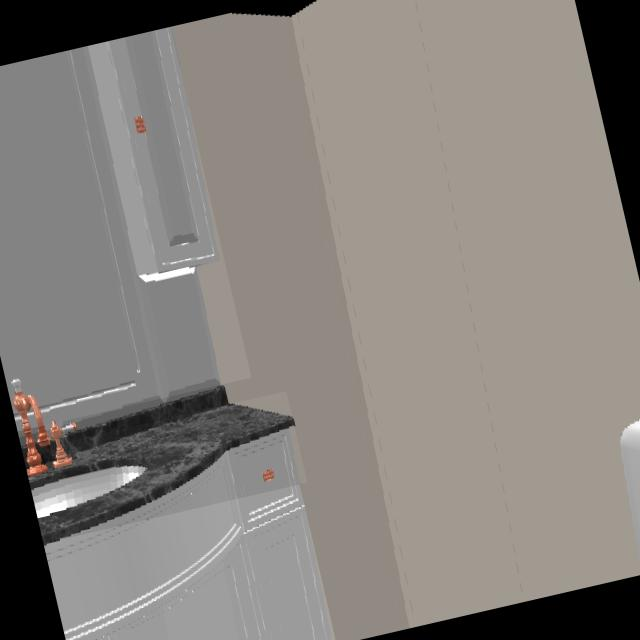cabinet: (0, 27, 219, 408), (44, 431, 330, 640)
countertop: (30, 404, 293, 543)
washbasin: (32, 466, 145, 517), (14, 394, 48, 476), (51, 423, 71, 466)
